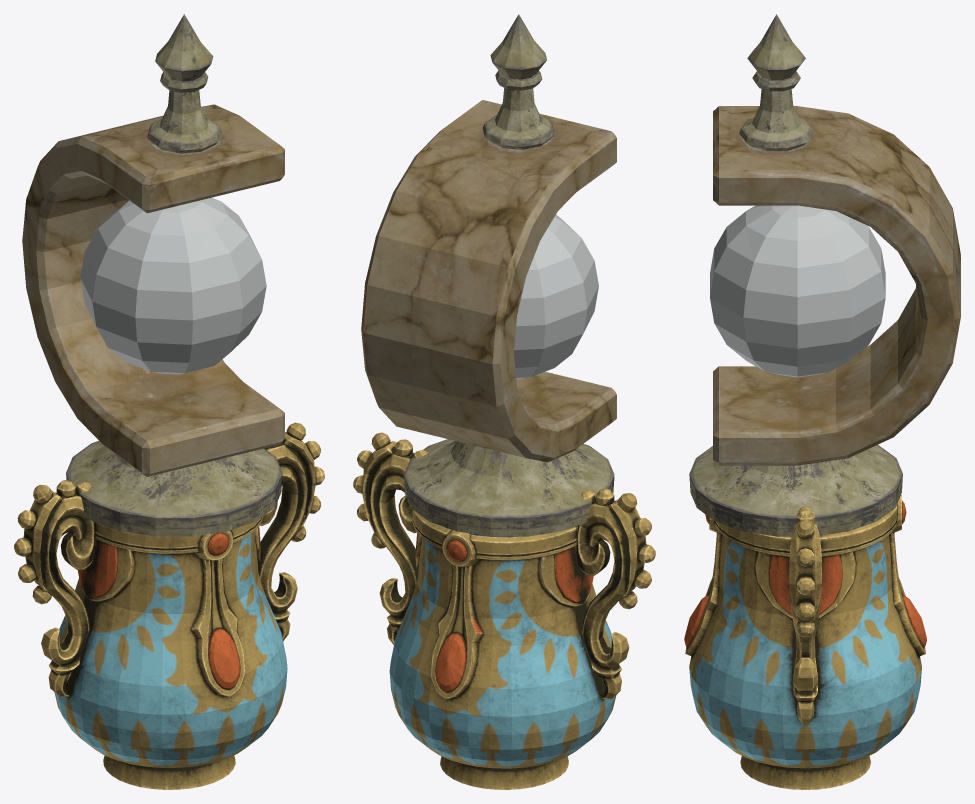
File: Furniture09.fbx
3 renders of one model, left to right at view 1: azimuth 30°, elevation 25°; view 2: azimuth 150°, elevation 25°; view 3: azimuth 270°, elevation 25°, orthographic. The views are drawn at different scales.
Parts seen in each view (by area): view 1: TO14_SM_GRN_Bld_Stair01.mo.010, TO14_SM_GRN_Bld_Stair01.mo.011; view 2: TO14_SM_GRN_Bld_Stair01.mo.010, TO14_SM_GRN_Bld_Stair01.mo.011; view 3: TO14_SM_GRN_Bld_Stair01.mo.010, TO14_SM_GRN_Bld_Stair01.mo.011.
Part boxes in pixels (left/top/right/bottom): TO14_SM_GRN_Bld_Stair01.mo.010: left=22, top=14, right=284, bottom=536; TO14_SM_GRN_Bld_Stair01.mo.011: left=14, top=422, right=324, bottom=789; TO14_SM_GRN_Bld_Stair01.mo.010: left=361, top=14, right=616, bottom=536; TO14_SM_GRN_Bld_Stair01.mo.011: left=353, top=432, right=655, bottom=789; TO14_SM_GRN_Bld_Stair01.mo.010: left=689, top=14, right=960, bottom=536; TO14_SM_GRN_Bld_Stair01.mo.011: left=684, top=495, right=926, bottom=789.
Bounding box in the file's own units: 216 × 507 × 170.
2 materials, 2 textured.
